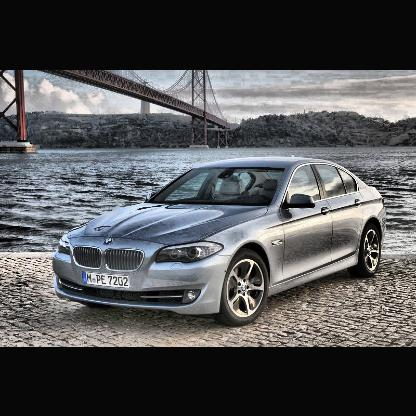BMW ActiveHybrid 5 Sedan 2012: (52, 155, 389, 327)
